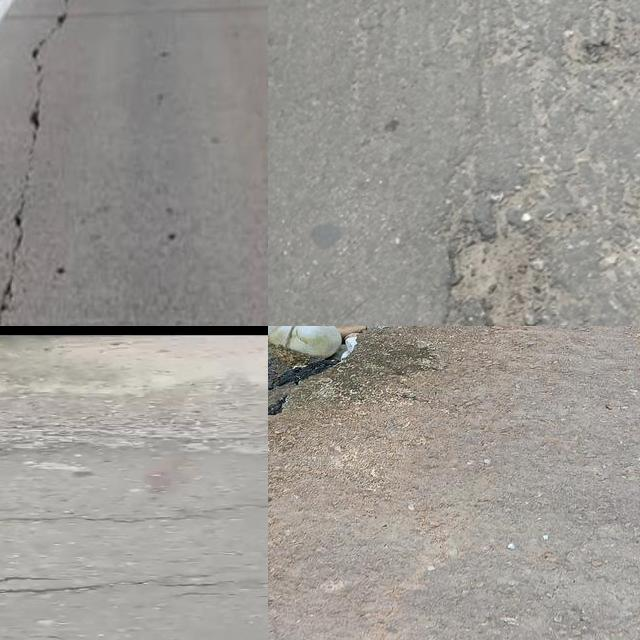Lubang: (437, 211, 580, 326)
Melintang: (0, 562, 268, 612)
Memanjang: (0, 0, 85, 326)
Pinggir: (268, 326, 424, 449)
